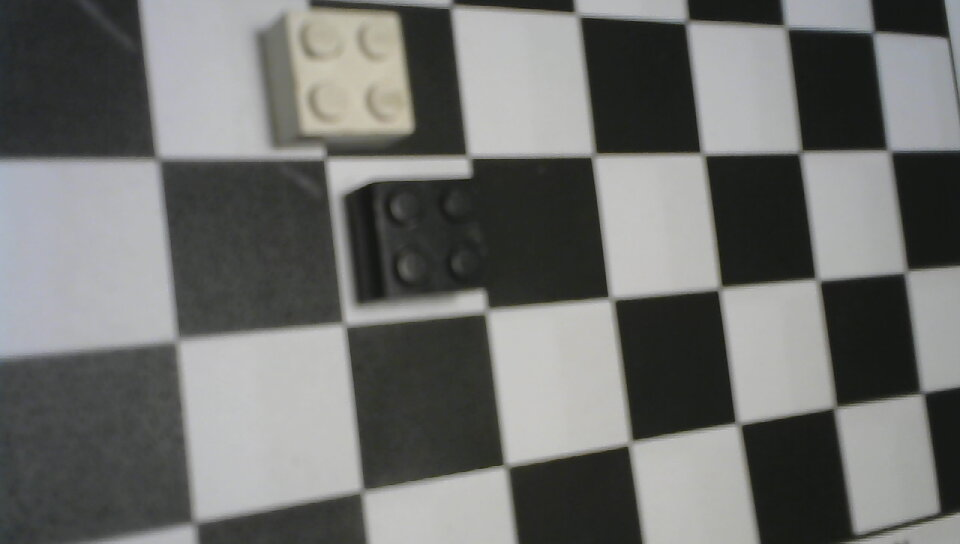bp: (341, 171, 503, 314)
